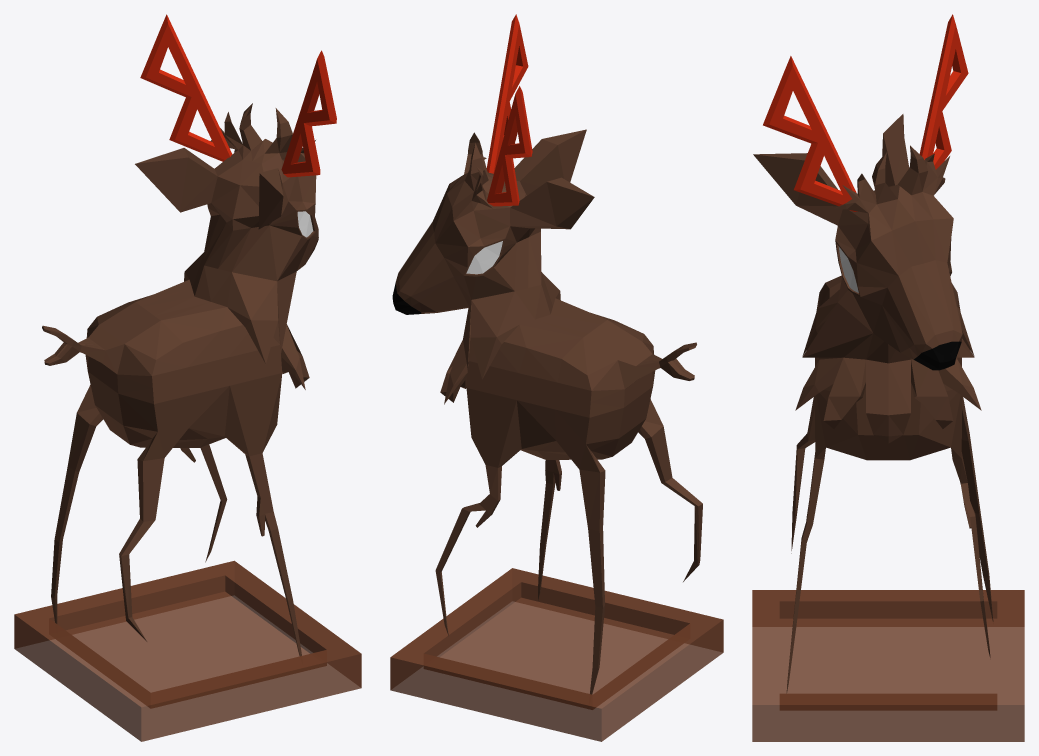
The model's file is 3d_minion_yggradsil_red.fbx.
3 renders of one model, left to right at view 1: azimuth 30°, elevation 25°; view 2: azimuth 150°, elevation 25°; view 3: azimuth 270°, elevation 25°, orthographic. The views are drawn at different scales.
Visible parts, largest first — view 1: yiggradsil_red, SM_will_o_wisp_01; view 2: yiggradsil_red, SM_will_o_wisp_01; view 3: yiggradsil_red, SM_will_o_wisp_01.
Part boxes in pixels (left/top/right/bottom): yiggradsil_red: left=42, top=14, right=336, bottom=656; SM_will_o_wisp_01: left=14, top=560, right=361, bottom=741; yiggradsil_red: left=392, top=14, right=702, bottom=694; SM_will_o_wisp_01: left=390, top=568, right=723, bottom=741; yiggradsil_red: left=753, top=14, right=993, bottom=693; SM_will_o_wisp_01: left=752, top=590, right=1024, bottom=741.
Size of the model in its own units: 133 by 274 by 100.
2 materials, 2 textured.
